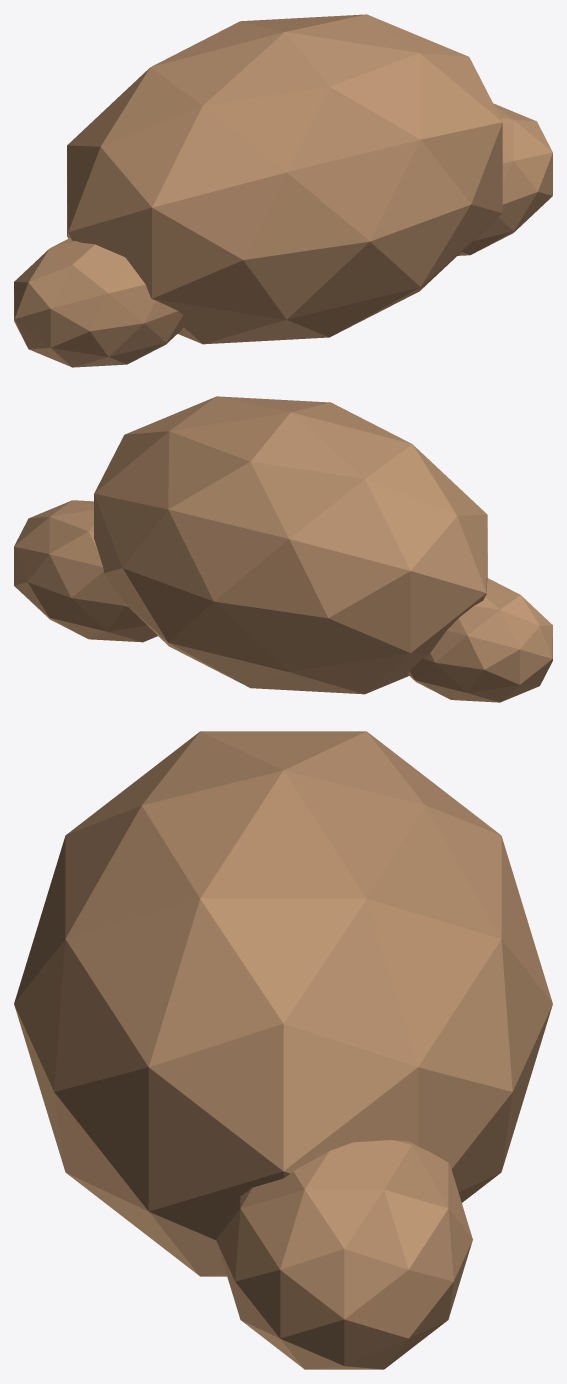
The model's file is sandstone_boulders.glb.
3 renders of one model, top to bottom at view 1: azimuth 30°, elevation 25°; view 2: azimuth 150°, elevation 25°; view 3: azimuth 270°, elevation 25°, orthographic. The views are drawn at different scales.
Parts seen in each view (by area): view 1: rock_0, rock_1, rock_2; view 2: rock_0, rock_2, rock_1; view 3: rock_0, rock_2.
Boxes of the visible parts, x1,y1,x2,y2 form: rock_0: (67, 14, 502, 344); rock_1: (14, 238, 184, 367); rock_2: (458, 103, 552, 255); rock_0: (94, 396, 487, 694); rock_2: (14, 500, 157, 642); rock_1: (408, 578, 552, 702); rock_0: (14, 731, 552, 1276); rock_2: (216, 1140, 472, 1369).
Size of the model in its own units: 1.7 by 0.845 by 0.884.
